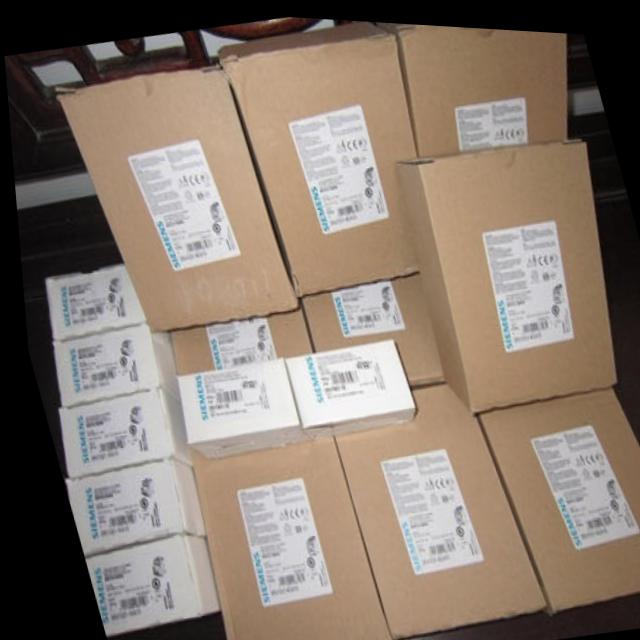box: (55, 54, 296, 331), (397, 108, 610, 407), (216, 18, 416, 297), (329, 376, 537, 635), (184, 434, 381, 640), (471, 382, 640, 605), (380, 18, 566, 153), (295, 271, 435, 380), (74, 532, 209, 636), (277, 337, 409, 441), (59, 459, 197, 554), (172, 358, 298, 459), (51, 389, 185, 479), (47, 324, 176, 407), (163, 306, 308, 374), (43, 264, 143, 344)
